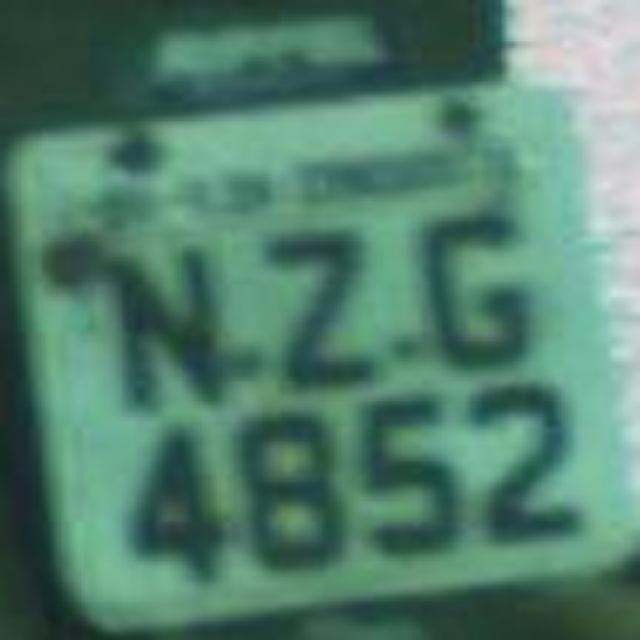2: (424, 380, 591, 568)
4: (100, 396, 220, 589)
5: (320, 391, 455, 564)
8: (212, 395, 340, 580)
G: (396, 208, 556, 388)
N: (100, 229, 235, 396)
Z: (252, 220, 392, 395)
